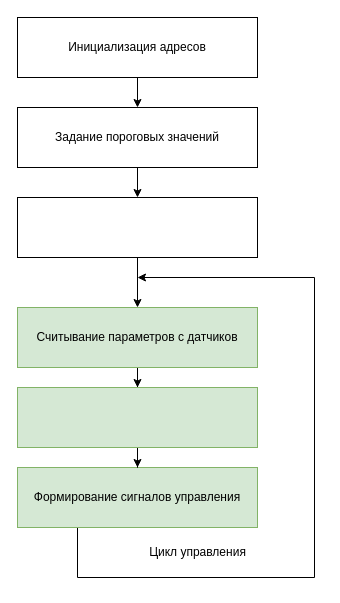
This 340x603 diagram has some shape labels left out. Each missing label, with the centre of its shape:
Вывод параметров микроклимата на экран: (137,417)
Проверка функционирования: (137,227)
